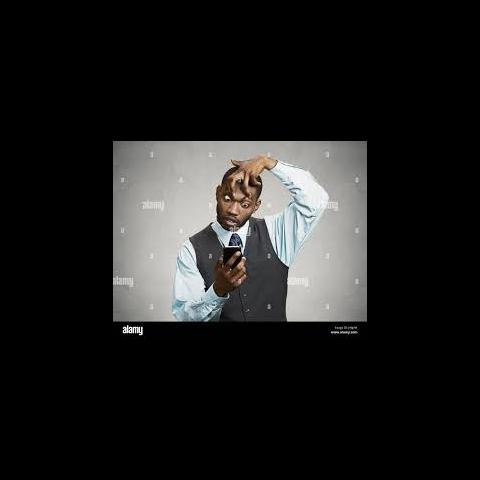opened: (218, 185, 256, 213)
